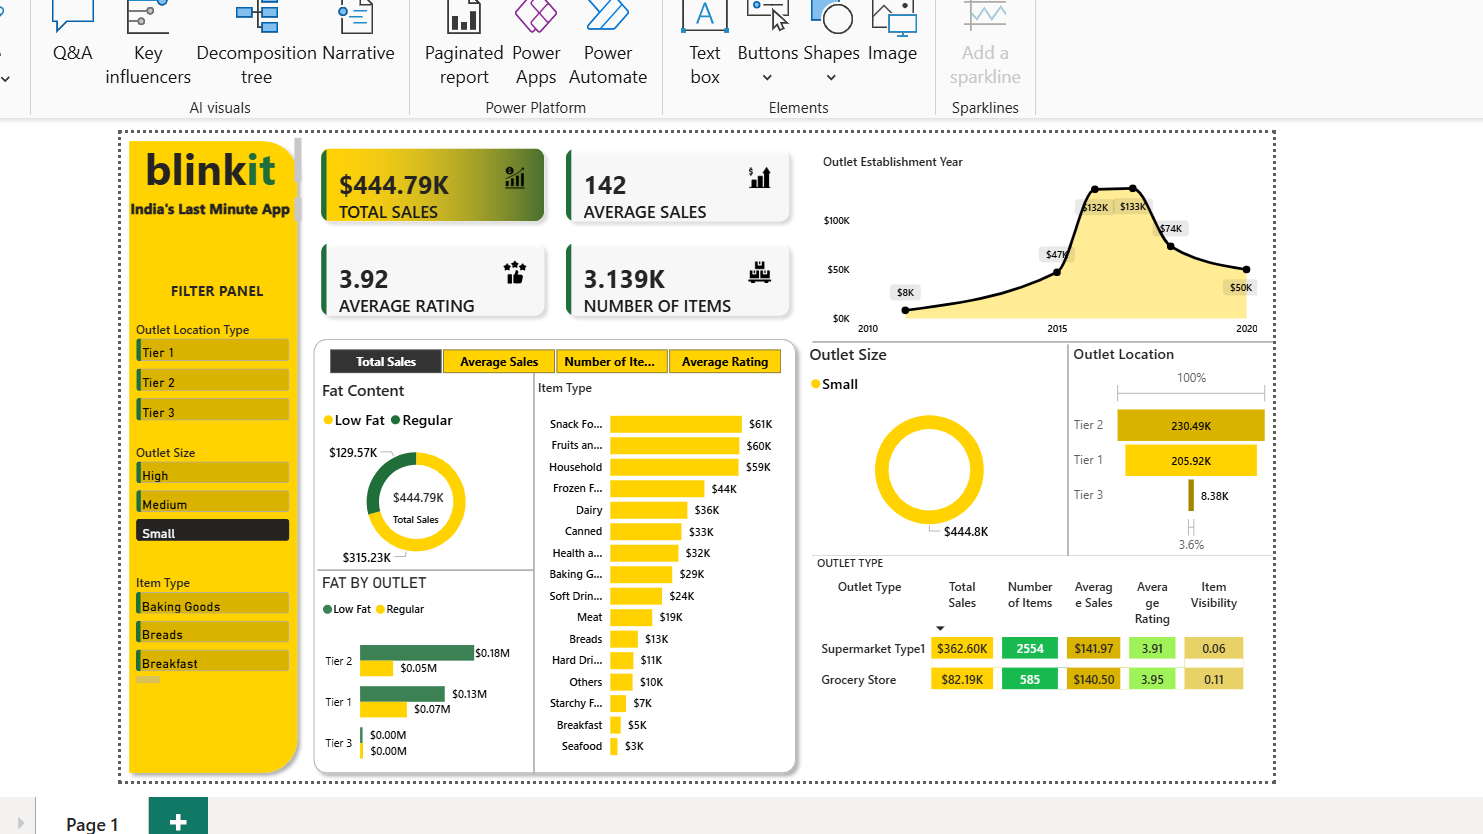

This screenshot's page, from the dashboard's own definition file:
{"tool":"powerbi","page":{"name":"Page 1","canvas":[1280,720],"ordinal":0},"visuals":[{"type":"shape","box":[0,0,205,720],"z":0},{"type":"textbox","box":[0,0,205.6,66.4],"z":1000},{"type":"textbox","box":[0,66.4,205.6,42.1],"z":2000},{"type":"cardVisual","fields":{"Data":["BlinkIT Grocery Data.Total Sales","BlinkIT Grocery Data.Average Sales","BlinkIT Grocery Data.Average Rating","BlinkIT Grocery Data.Number of Items"]},"box":[205.6,0,554,220],"z":3000},{"type":"shape","box":[205.6,220.2,553.8,500.3],"z":4000},{"type":"donutChart","title":"Fat Content","fields":{"Y":["BlinkIT Grocery Data.Number of Items"],"Category":["BlinkIT Grocery Data.Item Fat Content"]},"box":[218.6,273.6,218.6,217],"z":5000},{"type":"slicer","fields":{"Values":["Metrics .Metrics "]},"box":[207.3,233.2,550.5,40.5],"z":6000},{"type":"cardVisual","fields":{"Data":["BlinkIT Grocery Data.Number of Items"]},"box":[285,359.5,111.7,111.7],"z":7000},{"type":"clusteredBarChart","title":"FAT BY OUTLET","fields":{"Y":["BlinkIT Grocery Data.Number of Items"],"Category":["BlinkIT Grocery Data.Outlet Location Type"],"Series":["BlinkIT Grocery Data.Item Fat Content"]},"box":[218.6,490.6,218.6,229.9],"z":8000},{"type":"shape","box":[218.6,375.7,240,221.4],"z":9000},{"type":"shape","box":[421.4,267.1,74.3,445.7],"z":10000},{"type":"barChart","title":"Item Type","fields":{"Y":["BlinkIT Grocery Data.Number of Items"],"Category":["BlinkIT Grocery Data.Item Type"]},"box":[458.2,273.6,286.6,432.3],"z":11000},{"type":"lineChart","title":"Outlet Establishment Year","fields":{"Category":["BlinkIT Grocery Data.Outlet Establishment Year"],"Y":["BlinkIT Grocery Data.Total Sales"]},"box":[775.6,21,492.2,212.1],"z":12000},{"type":"donutChart","title":"Outlet Size","fields":{"Y":["BlinkIT Grocery Data.Total Sales"],"Category":["BlinkIT Grocery Data.Outlet Size"]},"box":[760,232.9,275.7,225.7],"z":13000},{"type":"funnel","title":"Outlet Location","fields":{"Y":["Sum(BlinkIT Grocery Data.Sales)"],"Category":["BlinkIT Grocery Data.Outlet Location Type"]},"box":[1052.9,232.9,227.1,238.6],"z":14000},{"type":"shape","box":[1015.7,234.3,74.3,237.1],"z":15000},{"type":"shape","box":[768.6,452.9,511.4,34.3],"z":16000},{"type":"shape","box":[768.6,215.7,511.4,34.3],"z":17000},{"type":"pivotTable","title":"OUTLET TYPE","fields":{"Rows":["BlinkIT Grocery Data.Outlet Type"],"Values":["BlinkIT Grocery Data.Total Sales","BlinkIT Grocery Data.Number of Items","BlinkIT Grocery Data.Average Sales","BlinkIT Grocery Data.Average Rating","Avg(BlinkIT Grocery Data.Item Visibility)"]},"box":[768.6,470,511.4,250],"z":18000},{"type":"advancedSlicerVisual","fields":{"Values":["BlinkIT Grocery Data.Outlet Location Type"]},"box":[11.7,208.3,180,116.7],"z":19000},{"type":"advancedSlicerVisual","fields":{"Values":["BlinkIT Grocery Data.Outlet Size"]},"box":[11.7,345,180,113.3],"z":20000},{"type":"advancedSlicerVisual","fields":{"Values":["BlinkIT Grocery Data.Item Type"]},"box":[11.7,490,180,128.3],"z":21000},{"type":"textbox","box":[11.7,158.3,178.3,31.7],"z":22000}]}

Visuals, with their boxes on the page's 1280x720 design canvas (x1, y1, x2, y2). These are canvas units, not pixel positions in the 1483x834 screenshot, which may show the page scaled, cropped or inside an application window:
shape: x1=0, y1=0, x2=205, y2=720
textbox: x1=0, y1=0, x2=206, y2=66
textbox: x1=0, y1=66, x2=206, y2=108
cardVisual - BlinkIT Grocery Data.Total Sales x BlinkIT Grocery Data.Average Sales: x1=206, y1=0, x2=760, y2=220
shape: x1=206, y1=220, x2=759, y2=720
"Fat Content" donutChart: x1=219, y1=274, x2=437, y2=491
slicer - Metrics .Metrics : x1=207, y1=233, x2=758, y2=274
cardVisual - BlinkIT Grocery Data.Number of Items: x1=285, y1=360, x2=397, y2=471
"FAT BY OUTLET" clusteredBarChart: x1=219, y1=491, x2=437, y2=720
shape: x1=219, y1=376, x2=459, y2=597
shape: x1=421, y1=267, x2=496, y2=713
"Item Type" barChart: x1=458, y1=274, x2=745, y2=706
"Outlet Establishment Year" lineChart: x1=776, y1=21, x2=1268, y2=233
"Outlet Size" donutChart: x1=760, y1=233, x2=1036, y2=459
"Outlet Location" funnel: x1=1053, y1=233, x2=1280, y2=472
shape: x1=1016, y1=234, x2=1090, y2=471
shape: x1=769, y1=453, x2=1280, y2=487
shape: x1=769, y1=216, x2=1280, y2=250
"OUTLET TYPE" pivotTable: x1=769, y1=470, x2=1280, y2=720
advancedSlicerVisual - BlinkIT Grocery Data.Outlet Location Type: x1=12, y1=208, x2=192, y2=325
advancedSlicerVisual - BlinkIT Grocery Data.Outlet Size: x1=12, y1=345, x2=192, y2=458
advancedSlicerVisual - BlinkIT Grocery Data.Item Type: x1=12, y1=490, x2=192, y2=618
textbox: x1=12, y1=158, x2=190, y2=190
